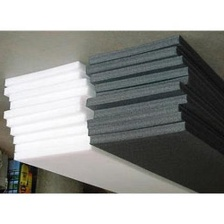foam_box: (0, 57, 196, 193), (81, 33, 224, 193)
